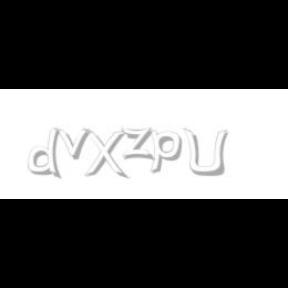U: (182, 128, 228, 178)
X: (82, 128, 126, 180)
d: (29, 128, 66, 180)
p: (148, 128, 186, 174)
v: (54, 128, 94, 160)
z: (120, 128, 156, 160)
